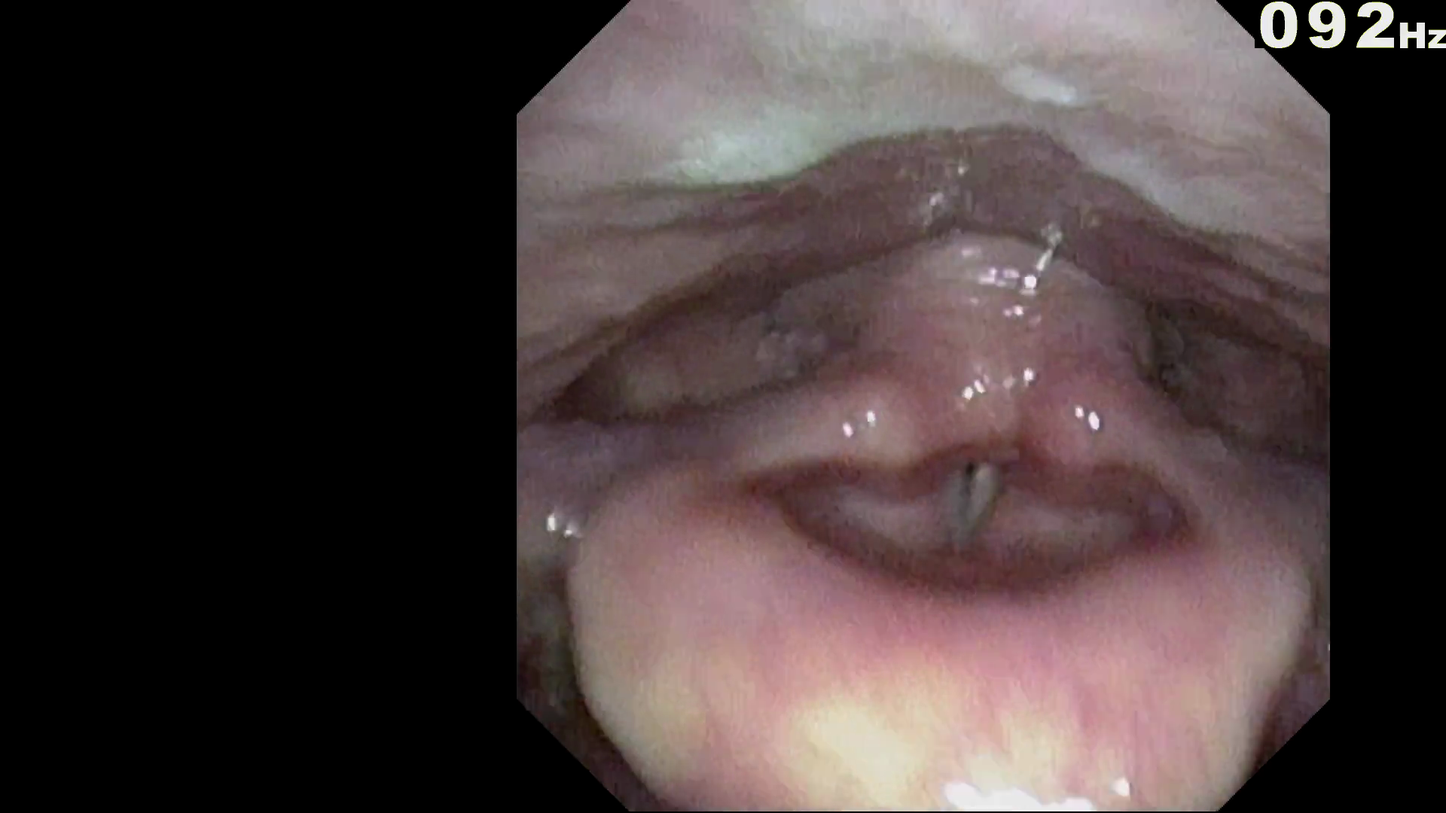epiglottis: (614, 335, 1227, 553)
